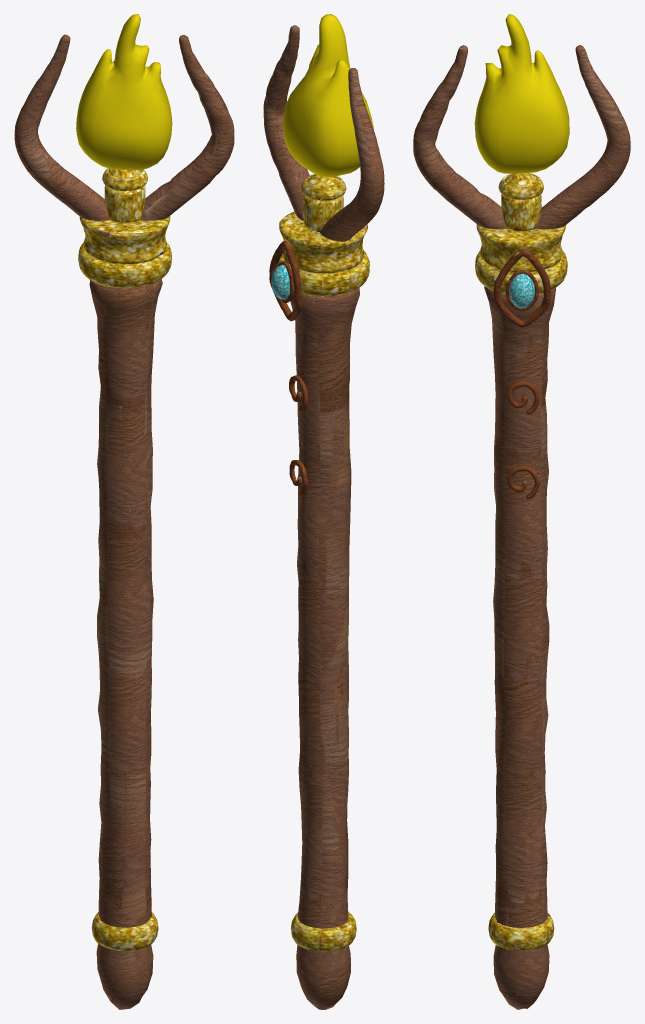
File: baculov2.fbx
3 views of the same model, side by side, from view 1: azimuth 90°, elevation 25°; view 2: azimuth 210°, elevation 25°; view 3: azimuth 270°, elevation 25° (orthographic).
Parts seen in each view (by area): view 1: Cuernos, llama; view 2: Cuernos, llama; view 3: Cuernos, llama.
Part boxes in pixels (x1,y1,x2,y2): Cuernos: (14,34,234,1009); llama: (76,14,172,170); Cuernos: (263,25,384,1009); llama: (283,14,373,176); Cuernos: (413,45,630,1009); llama: (474,14,569,173).
Bounding box in the file's own units: 41.41 × 426 × 85.1.
2 materials, 1 textured.
